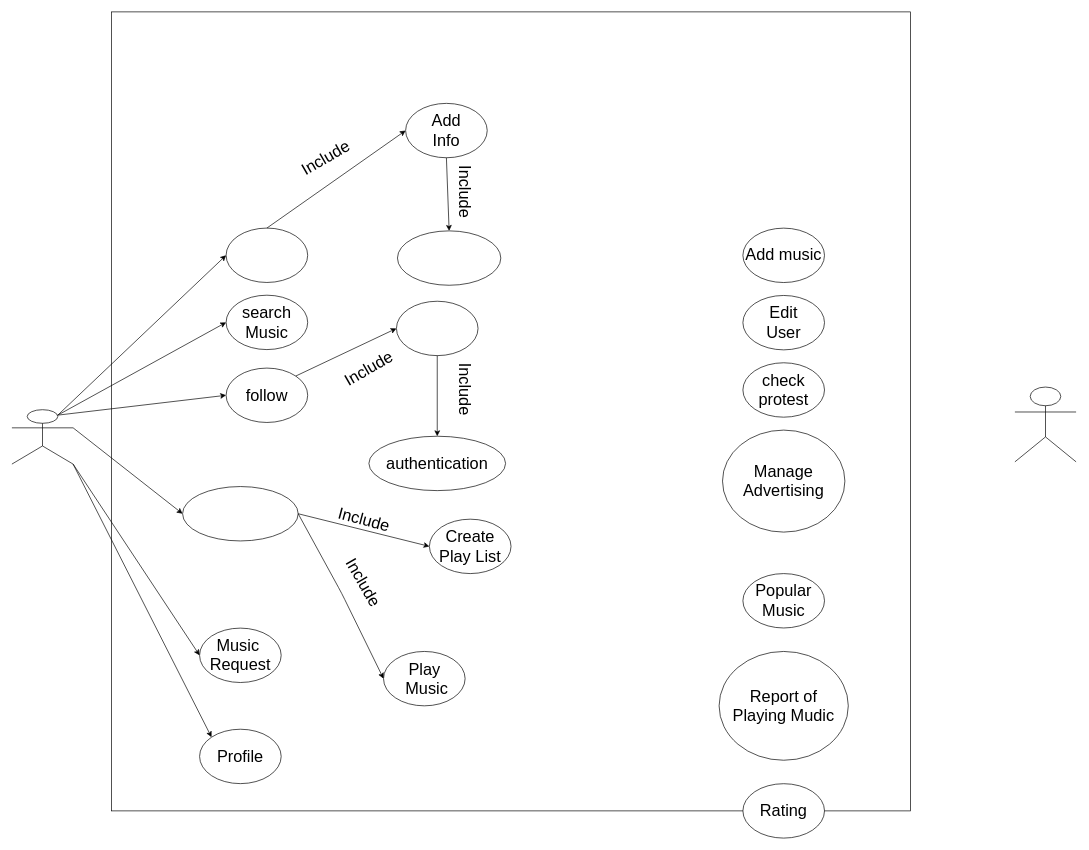
Image size: 1089x850. Some labels were removed from this diagram. The box of each missing label's shape, as (x1, y1, x2, y2) in pixels:
Insert Database: (397, 230, 501, 285)
Manager: (1014, 386, 1076, 462)
Music Managment: (182, 486, 298, 541)
Search User: (396, 301, 478, 356)
Sign in: (225, 227, 308, 282)
user: (11, 409, 73, 464)
